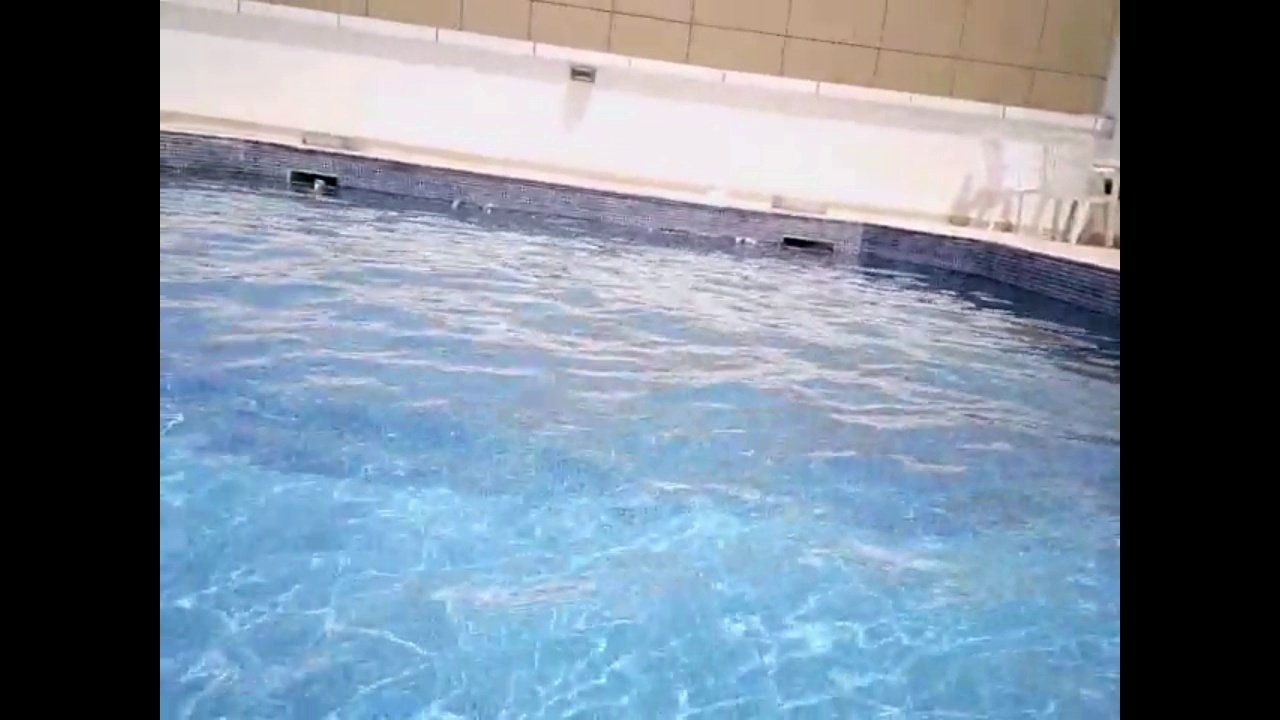debris: (729, 233, 762, 255), (309, 175, 330, 194), (447, 195, 466, 214), (477, 200, 499, 216)
